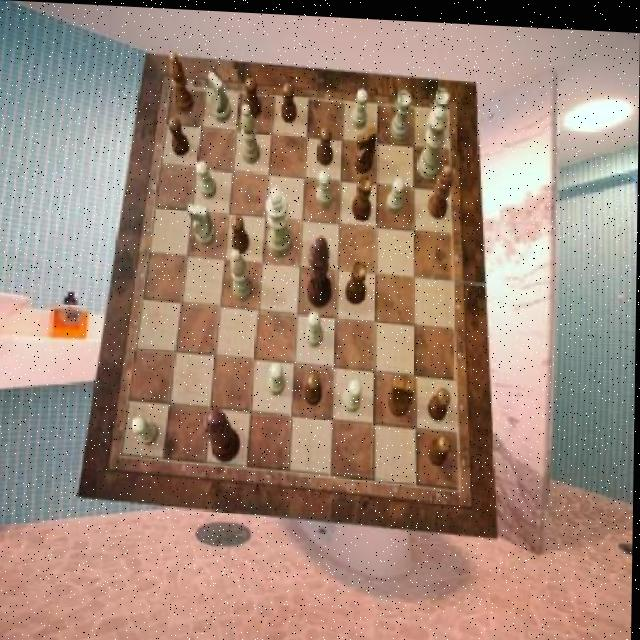bishop: (168, 51, 193, 112), (427, 159, 452, 215)
black-bishop: (307, 232, 333, 306)
black-king: (354, 124, 377, 172), (388, 373, 416, 412)
black-knight: (167, 115, 189, 154), (429, 430, 454, 463), (428, 382, 451, 417), (232, 213, 250, 251), (245, 75, 262, 115), (282, 79, 298, 120), (318, 124, 334, 163), (304, 370, 322, 404)
black-pawn: (204, 404, 241, 460)
black-queen: (345, 256, 368, 301), (352, 170, 372, 217)
black-rook: (231, 246, 254, 300), (240, 101, 260, 162)
white-bishop: (265, 183, 293, 255)
white-king: (207, 68, 232, 120), (187, 201, 216, 245)
white-knight: (195, 159, 217, 197), (132, 416, 160, 445), (386, 174, 406, 211), (351, 85, 369, 126), (341, 376, 362, 410), (306, 306, 324, 345), (316, 165, 334, 203), (269, 359, 287, 393)
white-pawn: (417, 102, 448, 178)
white-queen: (424, 82, 449, 134), (391, 85, 412, 137)
